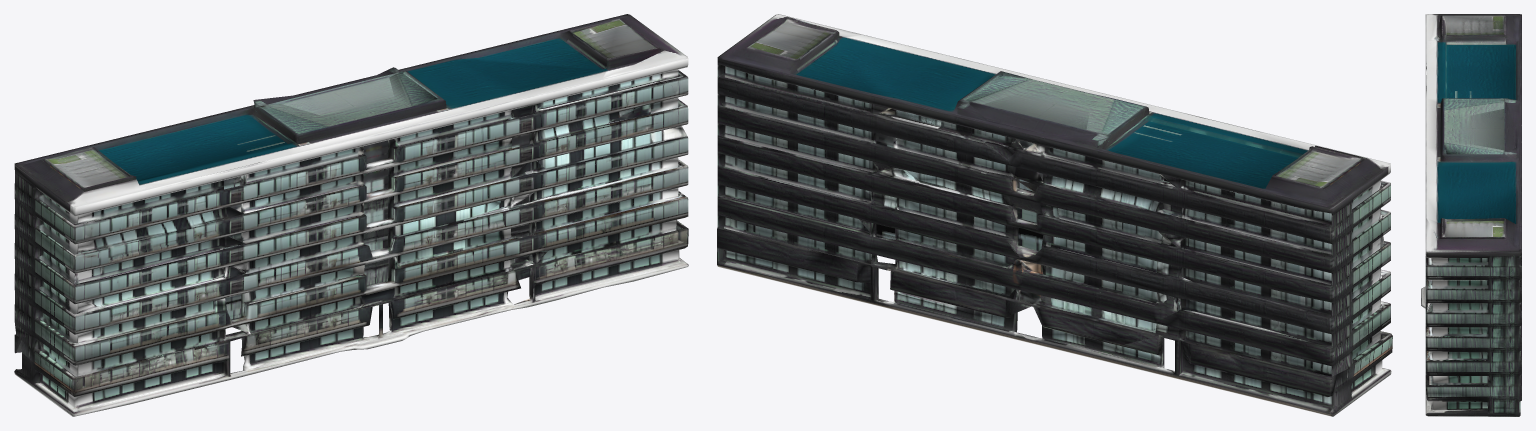
File: condo_2.glb
The picture shows the model from 3 angles, left to right: view 1: azimuth 30°, elevation 25°; view 2: azimuth 150°, elevation 25°; view 3: azimuth 270°, elevation 25°; orthographic projection. The views are drawn at different scales.
Bounding box in the file's own units: 1.91 × 0.6419 × 0.3405.
1 material, 1 textured.
